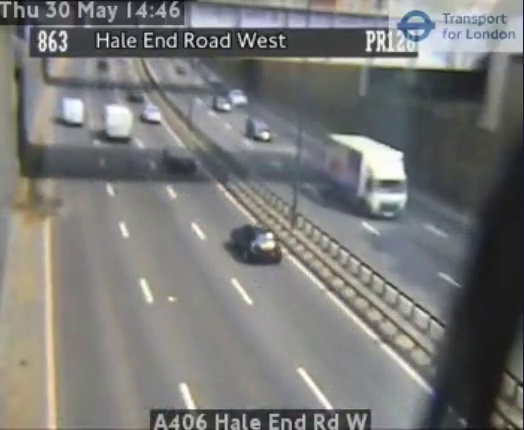car: (230, 225, 280, 261)
van: (105, 106, 132, 139), (61, 98, 83, 125)
